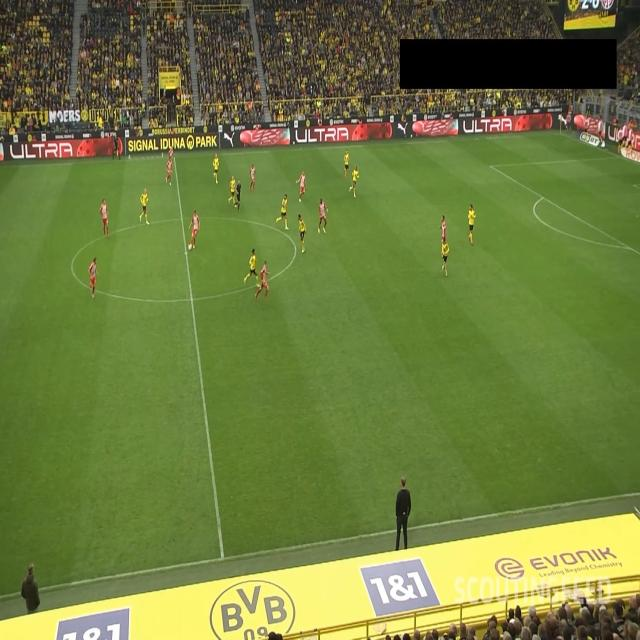ball: (188, 243, 192, 250)
